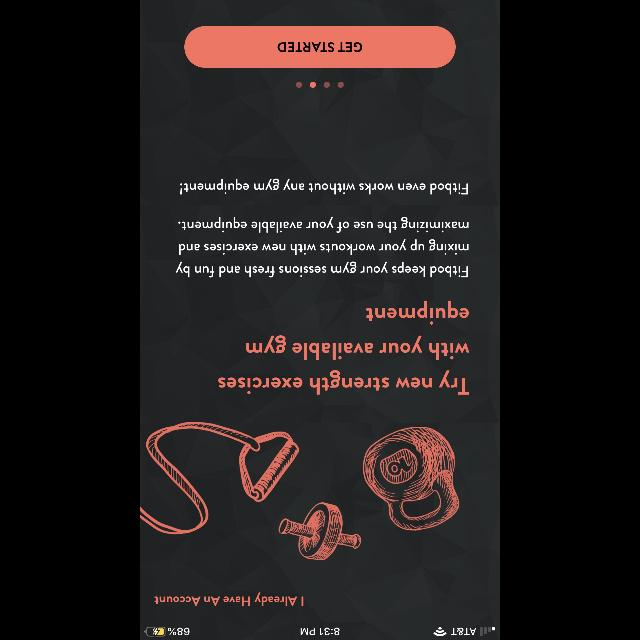image: (140, 420, 460, 560)
pageindicator: (296, 82, 344, 88)
text: (217, 301, 468, 395), (176, 216, 468, 278), (180, 179, 468, 195), (154, 592, 304, 606)
textbutton: (184, 26, 456, 68)
uppertaskbar: (140, 626, 500, 640)
